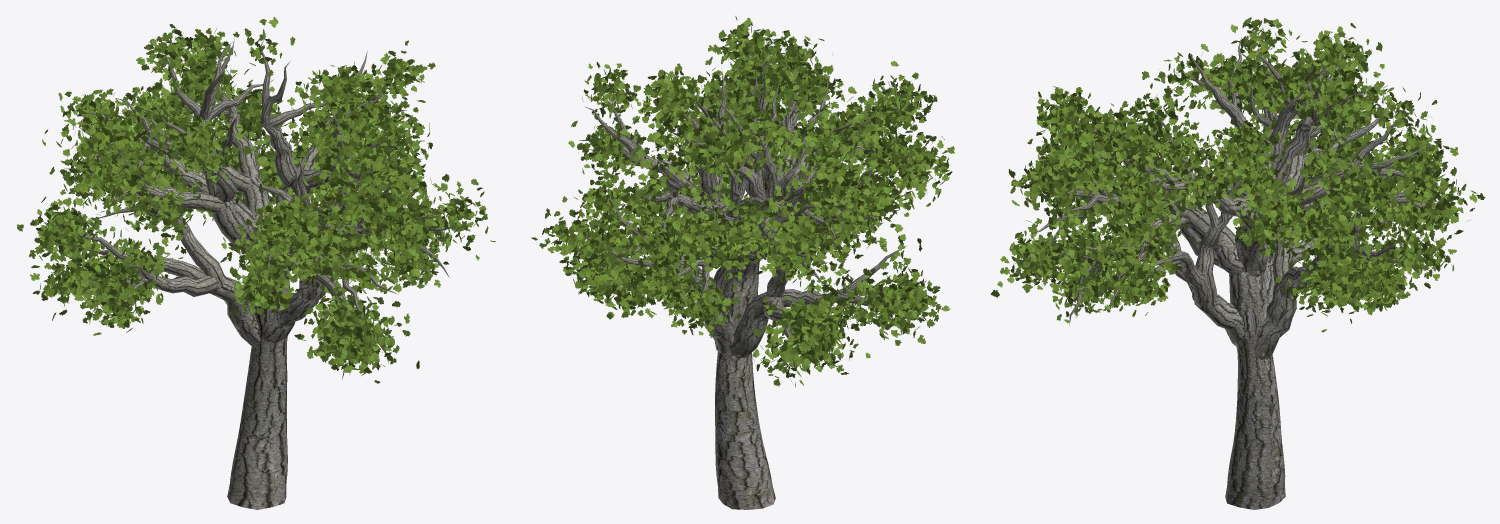
File: oak_easytree_v016.glb
3 renders of one model, left to right at view 1: azimuth 30°, elevation 25°; view 2: azimuth 150°, elevation 25°; view 3: azimuth 270°, elevation 25°, orthographic. The views are drawn at different scales.
Parts seen in each view (by area): view 1: Oak foliage cards, Oak_EasyTree_V016_Proof; view 2: Oak foliage cards, Oak_EasyTree_V016_Proof; view 3: Oak foliage cards, Oak_EasyTree_V016_Proof.
Part boxes in pixels (<box>): Oak foliage cards: <box>17,17,495,383</box>; Oak_EasyTree_V016_Proof: <box>65,38,465,509</box>; Oak foliage cards: <box>531,16,954,387</box>; Oak_EasyTree_V016_Proof: <box>576,38,913,509</box>; Oak foliage cards: <box>990,17,1485,332</box>; Oak_EasyTree_V016_Proof: <box>1030,37,1436,509</box>.
Size of the model in its own units: 7.12 by 7.88 by 7.87.
Materials: 2 (2 with a texture image).
